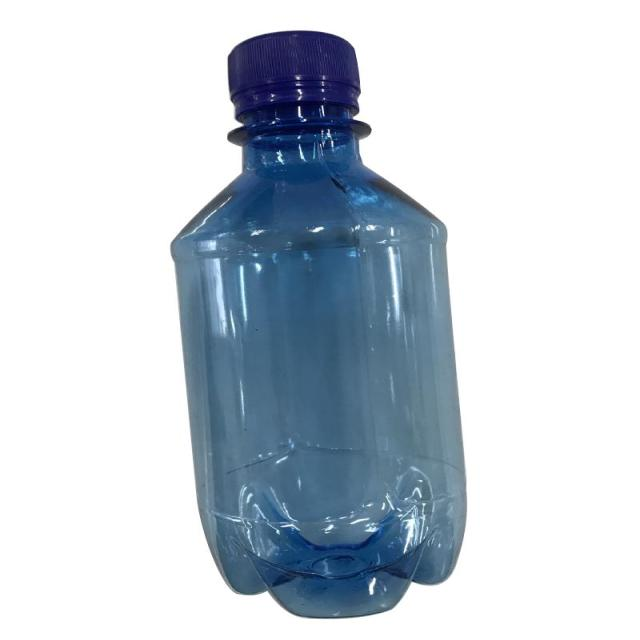bottle: (165, 23, 475, 622)
